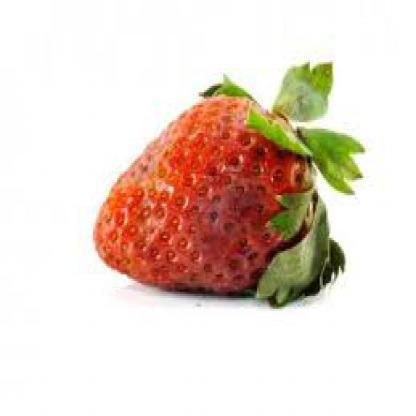strawberry_rotten: (67, 44, 380, 332)
